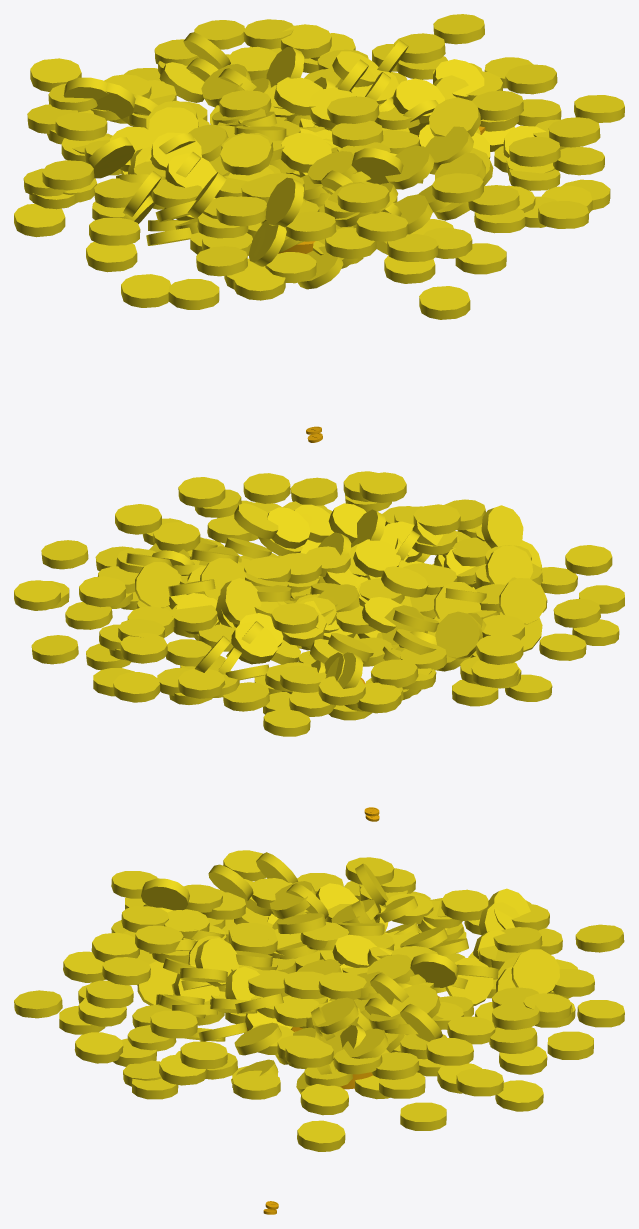
The model's file is coins.glb.
3 renders of one model, top to bottom at view 1: azimuth 30°, elevation 25°; view 2: azimuth 150°, elevation 25°; view 3: azimuth 270°, elevation 25°, orthographic. The views are drawn at different scales.
Visible parts, largest first — view 1: Mesh_0, Mesh_1; view 2: Mesh_0, Mesh_1; view 3: Mesh_0, Mesh_1.
Part boxes in pixels (x1,y1,x2,y2): Mesh_0: (14, 14, 624, 310); Mesh_1: (14, 24, 624, 319); Mesh_0: (14, 471, 624, 727); Mesh_1: (14, 482, 624, 736); Mesh_0: (14, 850, 624, 1143); Mesh_1: (14, 852, 624, 1151).
Size of the model in its own units: 1.67 by 0.8862 by 1.64.
